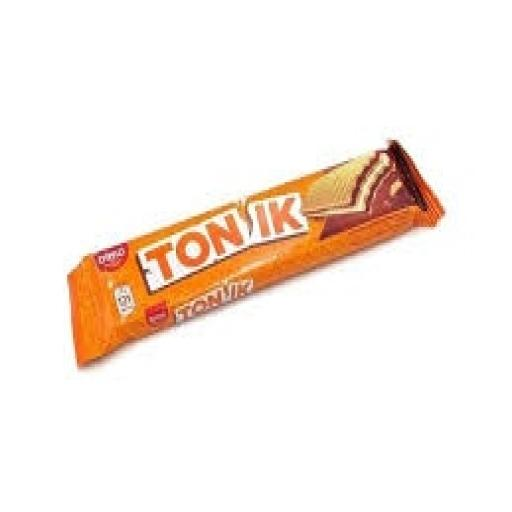tonik: (52, 153, 456, 384)
